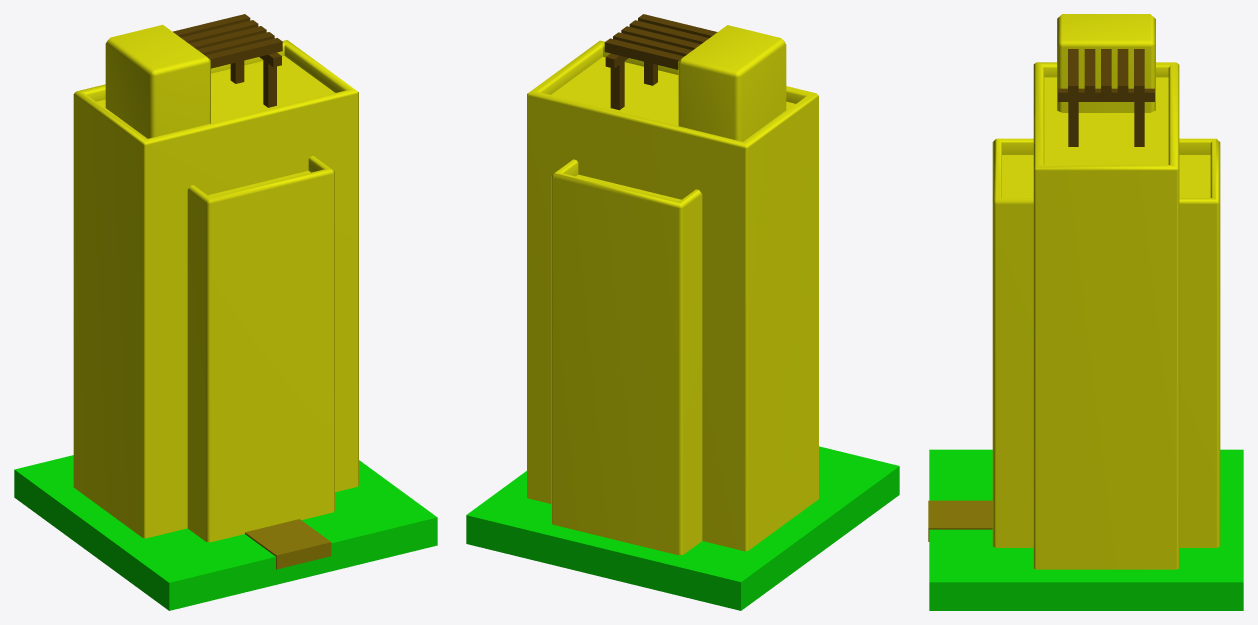
File: UrbanConcept01_SM.fbx
3 renders of one model, left to right at view 1: azimuth 30°, elevation 25°; view 2: azimuth 150°, elevation 25°; view 3: azimuth 270°, elevation 25°, orthographic. The views are drawn at different scales.
Visible parts, largest first — view 1: polySurface75; view 2: polySurface75; view 3: polySurface75.
Part boxes in pixels (bbox=[...]): polySurface75: bbox=[14, 14, 437, 610]; polySurface75: bbox=[466, 14, 899, 610]; polySurface75: bbox=[928, 14, 1243, 610].
Size of the model in its own units: 100 by 171 by 100.
